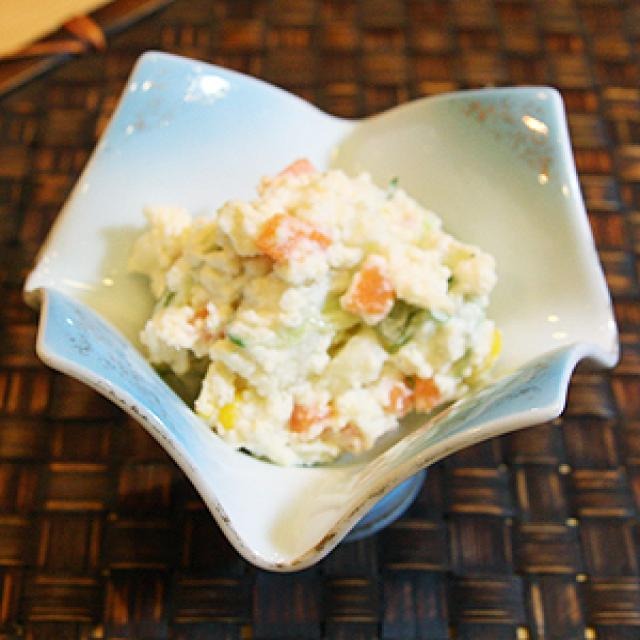蔬菜料理: (23, 48, 621, 572)
